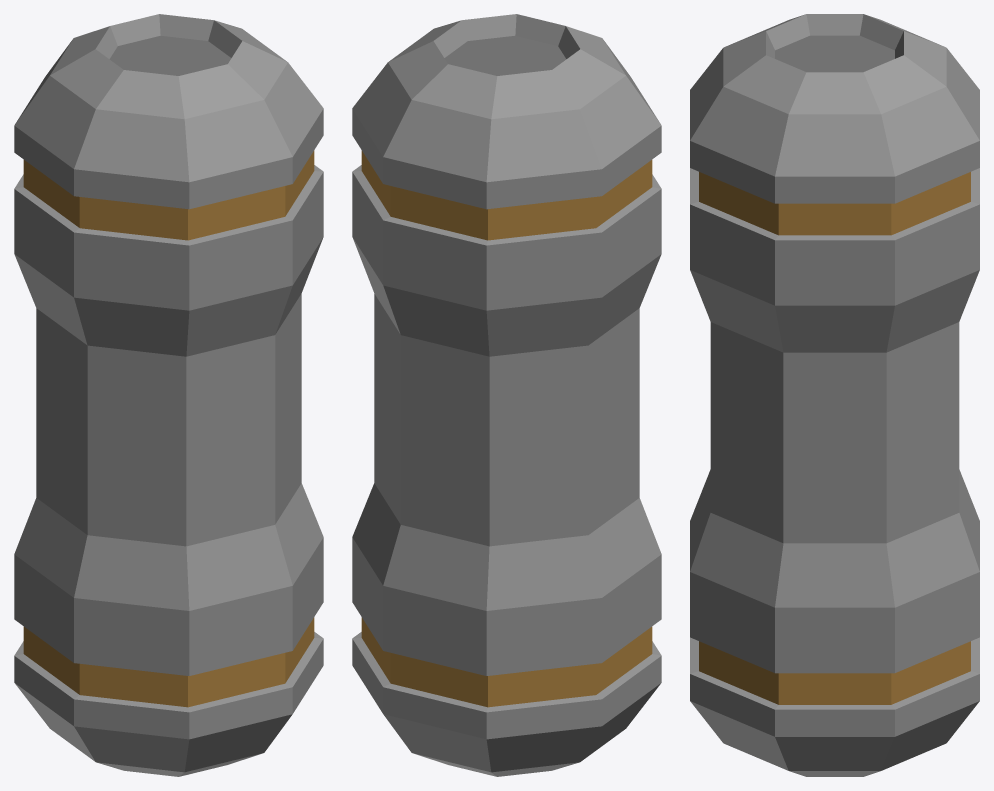
File: Props_Vessel.glb
3 renders of one model, left to right at view 1: azimuth 30°, elevation 25°; view 2: azimuth 150°, elevation 25°; view 3: azimuth 270°, elevation 25°, orthographic.
Visible parts, largest first — view 1: Props_Vessel; view 2: Props_Vessel; view 3: Props_Vessel.
Boxes of the visible parts, x1,y1,x2,y2 form: Props_Vessel: (14,14,323,776); Props_Vessel: (352,14,661,776); Props_Vessel: (690,14,979,776).
Bounding box in the file's own units: 0.2873 × 0.7705 × 0.2873.
